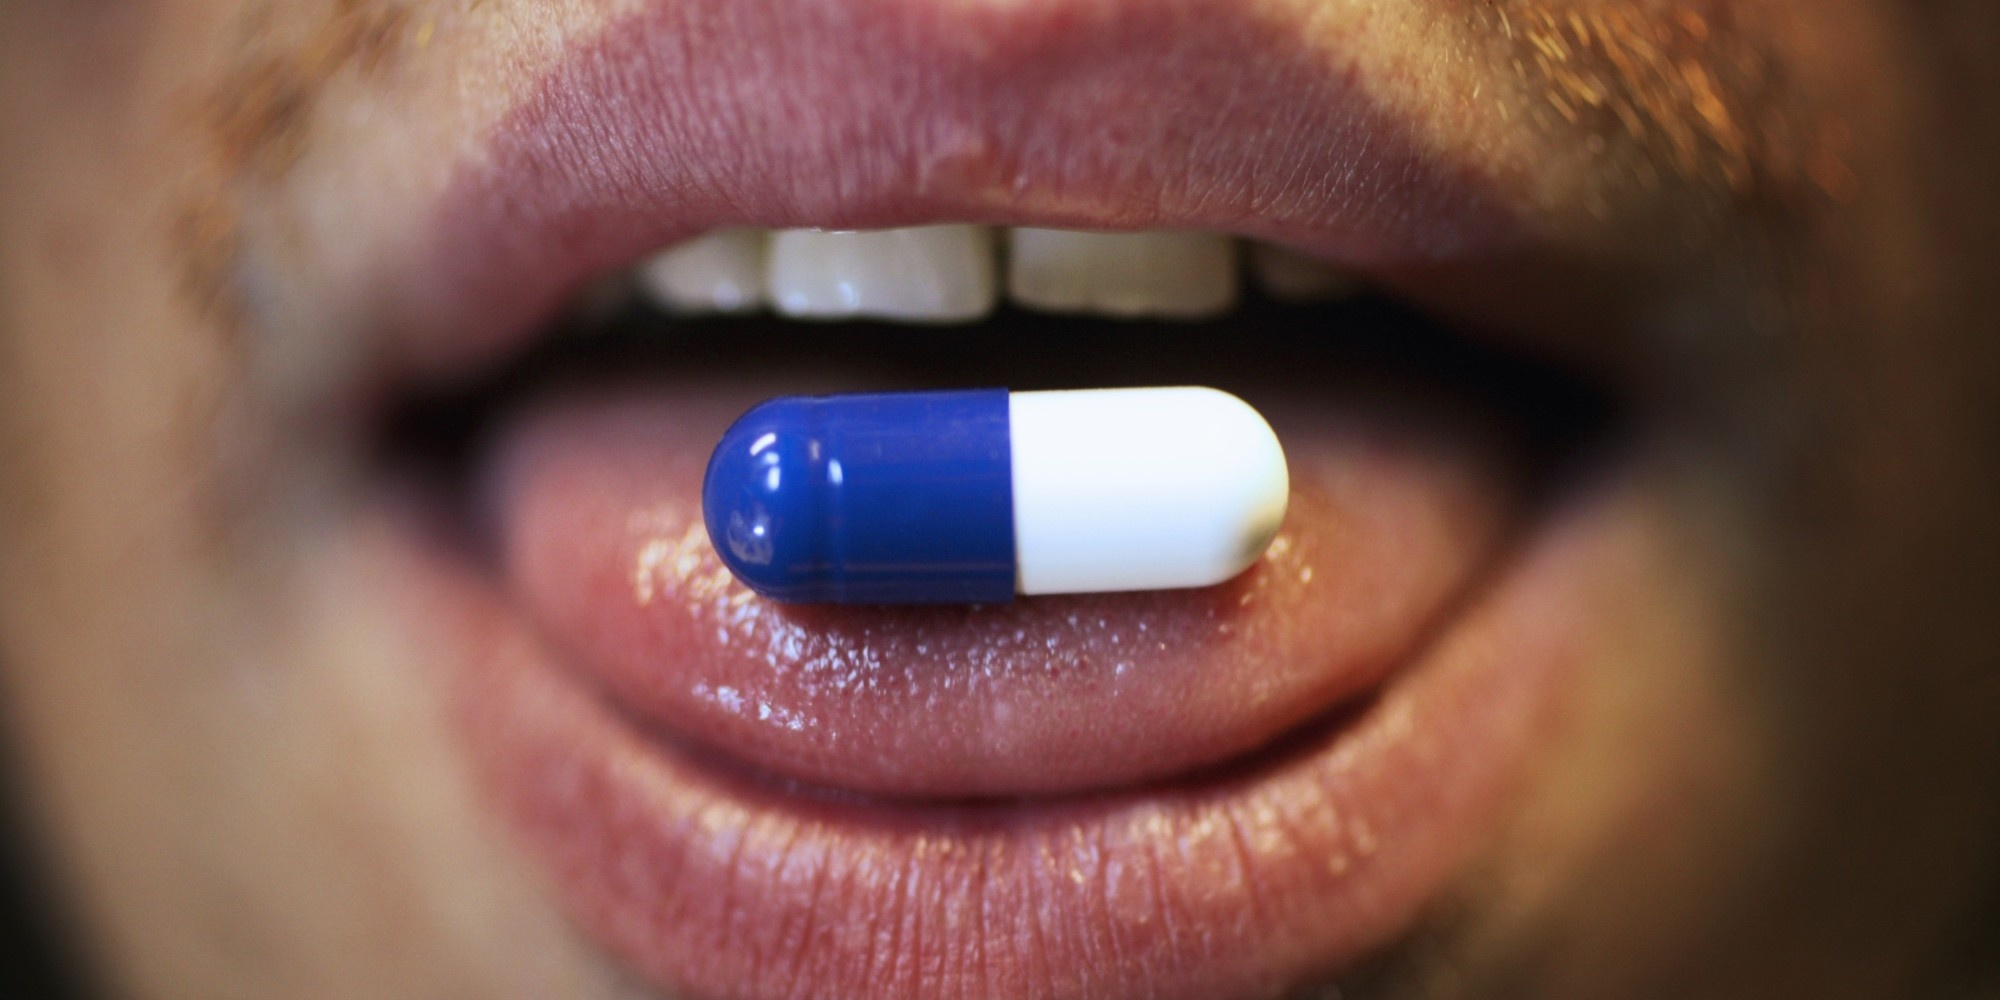pills: (690, 386, 1304, 608)
